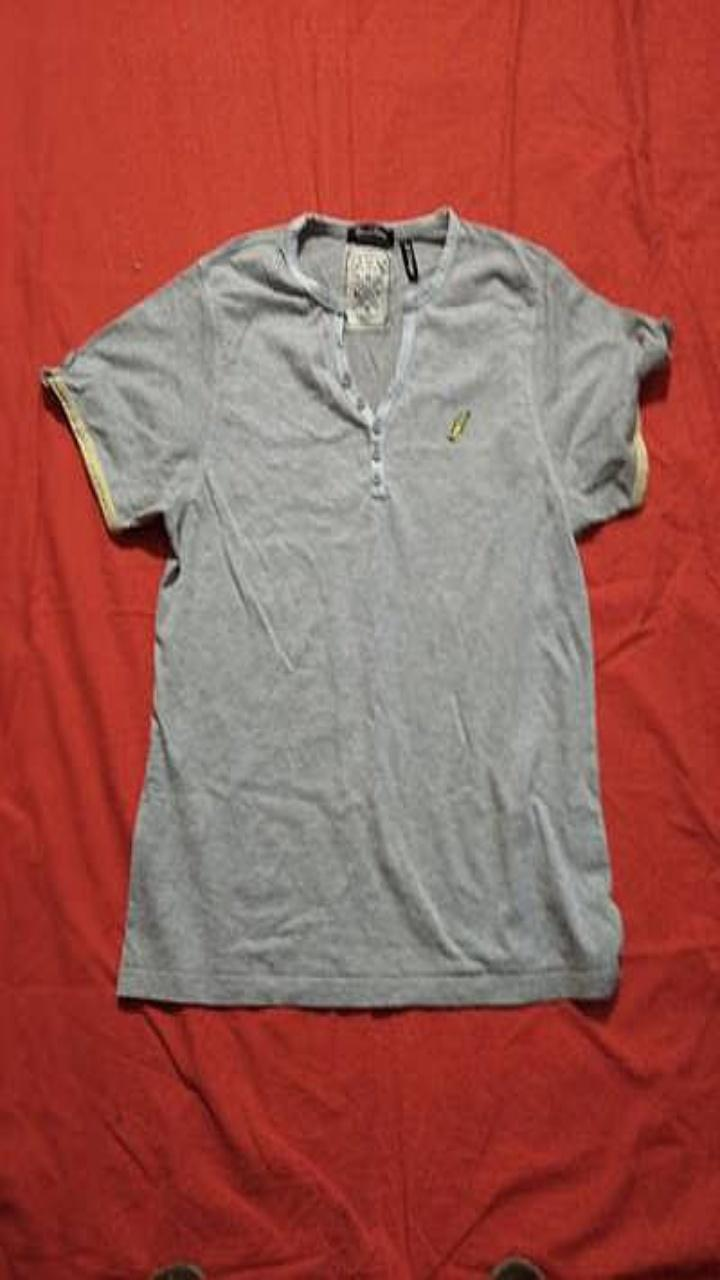T-Shirt: (40, 205, 673, 1006)
